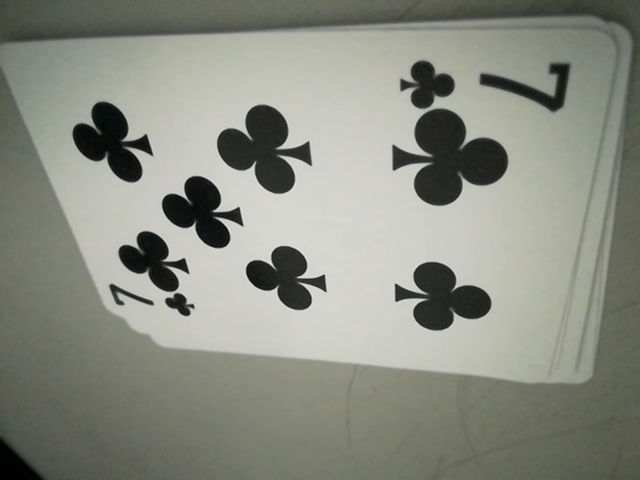mh 7: (395, 48, 576, 111), (100, 279, 192, 326)
